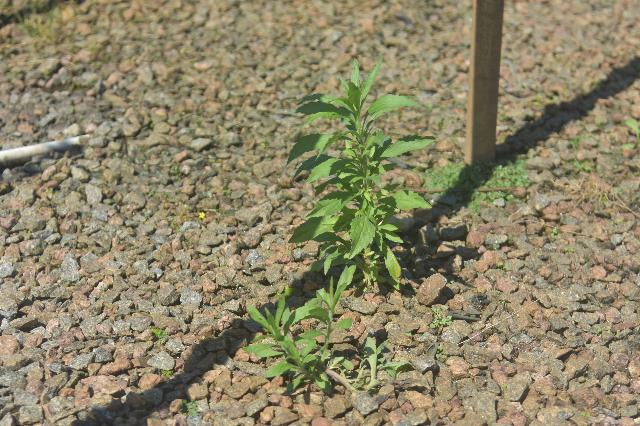MalezaMontesDelPlata: (290, 52, 435, 298), (233, 293, 353, 401)
